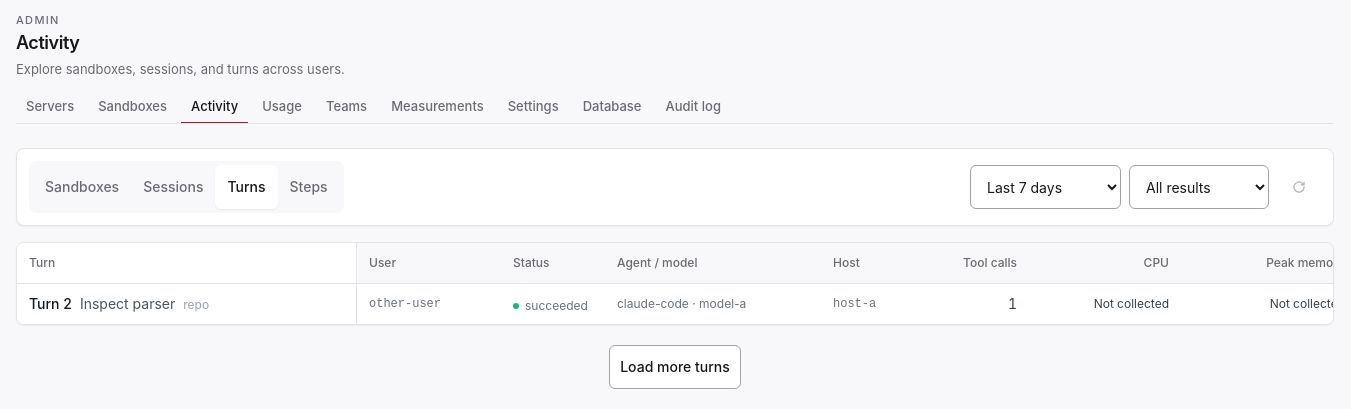
Test: turn level › applies Created and Status immediately and replaces previously paged rows
Click the button "Load more turns": (675, 367) [609,345,741,389]
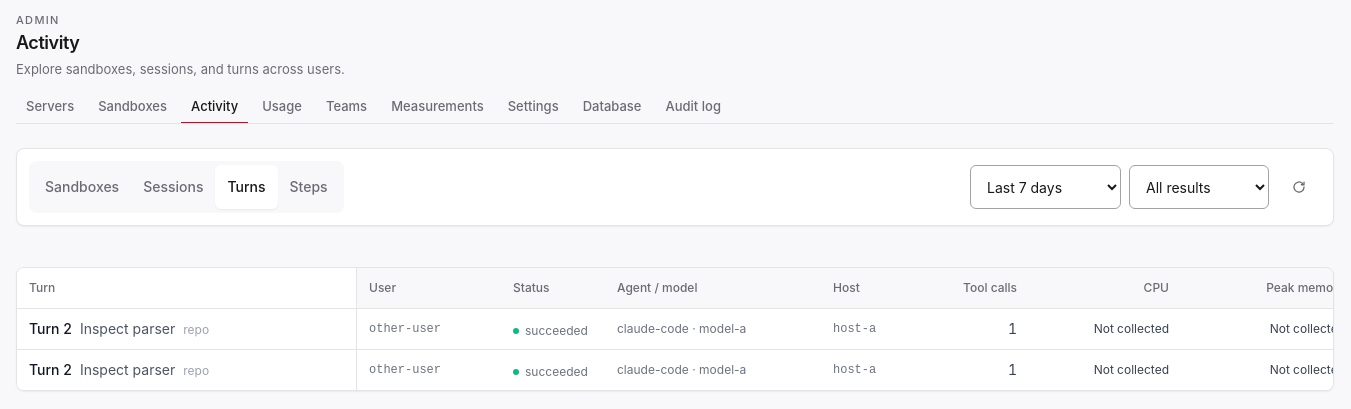
expect the 2nd link titled "job-2" is shown: met, box [29,360,72,380]
Select "Last 30 days" in the 1st dropdown named "Turn created": (1046, 187) [970,165,1121,209]
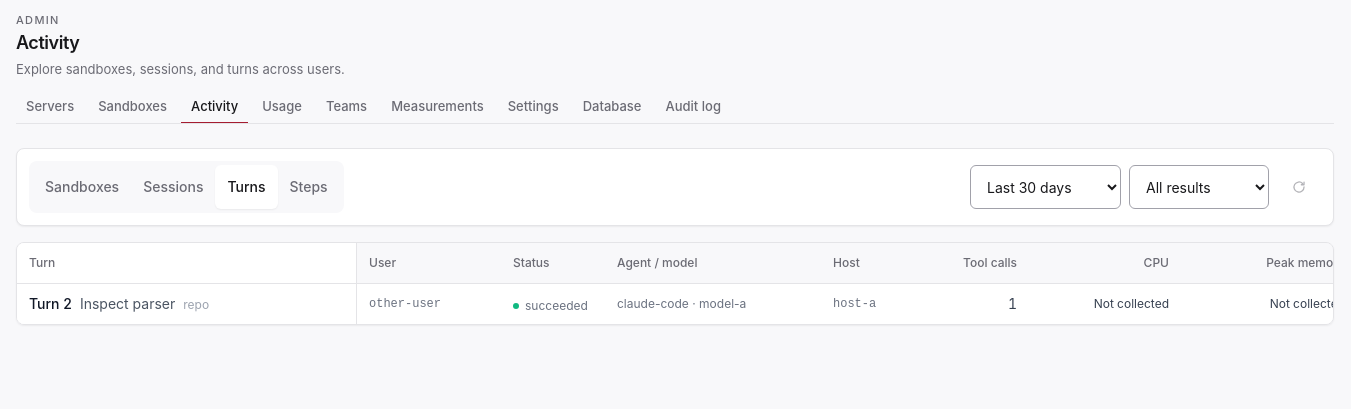
expect the link titled "job-30-days" is shown: met, box [29,294,72,314]
expect the link titled "job-1" is gone: met
expect the link titled "job-2" is gone: met
Select "failed" in the 2nd dropdown named "Turn result": (1199, 187) [1129,165,1269,209]
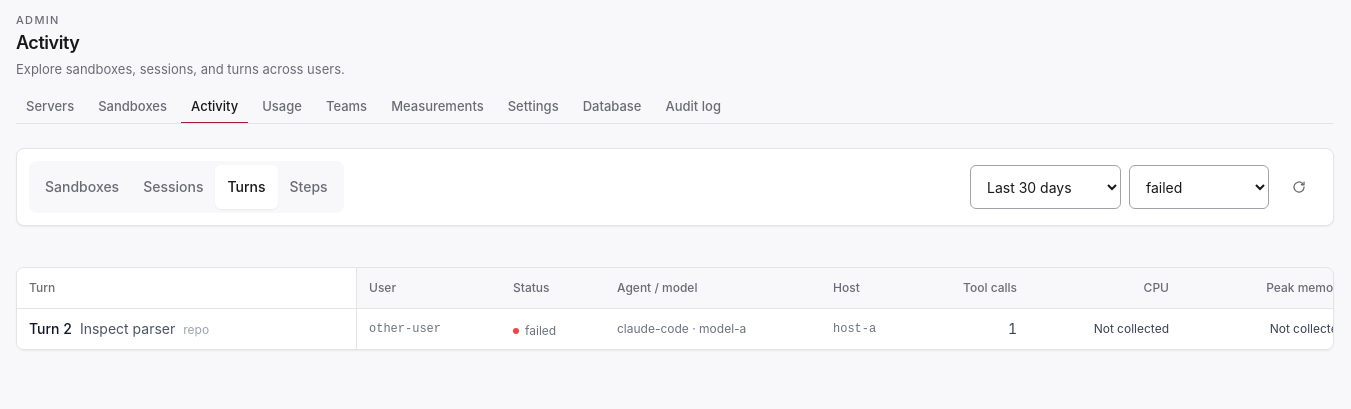
expect the link titled "job-failed" is shown: met, box [29,319,72,339]
expect the link titled "job-30-days" is gone: met
